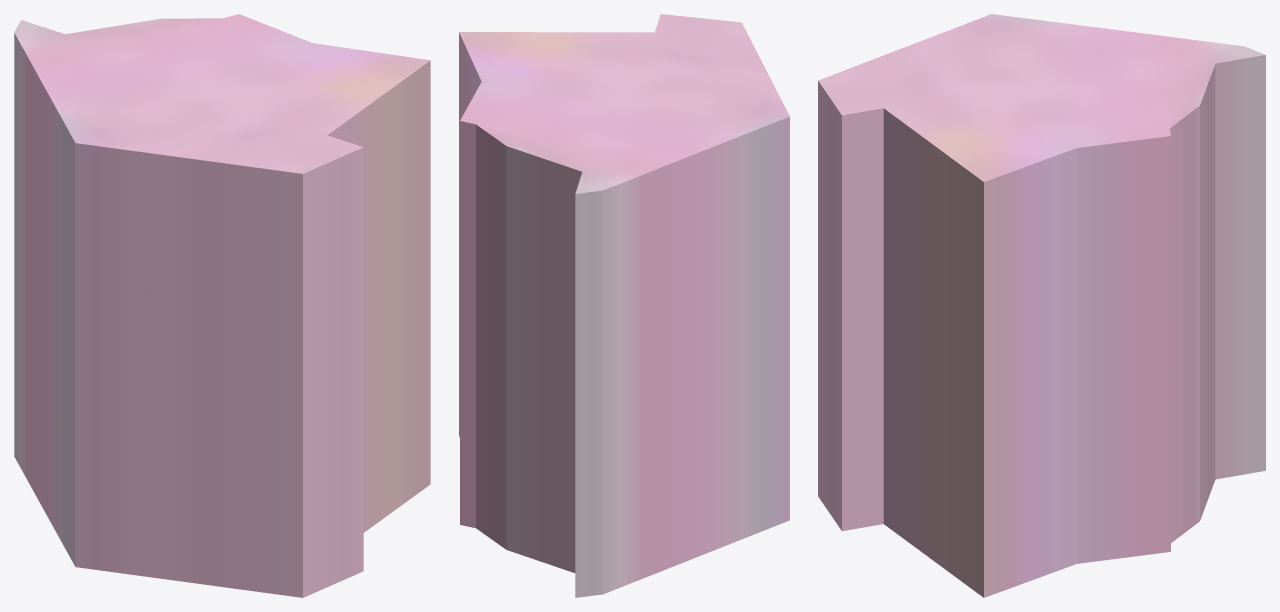
The model's file is south_amboy.glb.
3 views of the same model, side by side, from view 1: azimuth 30°, elevation 25°; view 2: azimuth 150°, elevation 25°; view 3: azimuth 270°, elevation 25° (orthographic). The views are drawn at different scales.
Visible parts, largest first — view 1: Plane.009; view 2: Plane.009; view 3: Plane.009.
Boxes of the visible parts, x1,y1,x2,y2 form: Plane.009: [14, 14, 430, 597]; Plane.009: [459, 14, 789, 597]; Plane.009: [818, 14, 1265, 597].
Bounding box in the file's own units: 0.3172 × 0.3658 × 0.357.
1 material, 1 textured.
